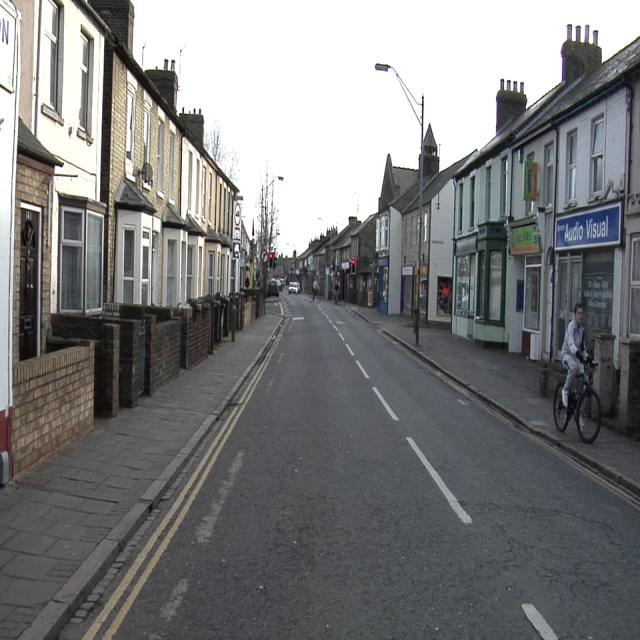Bicyclist: (554, 303, 601, 443)
Building: (292, 25, 640, 435), (0, 0, 265, 481)
Car: (268, 278, 279, 296), (288, 282, 300, 294)
Road: (118, 295, 640, 638)
